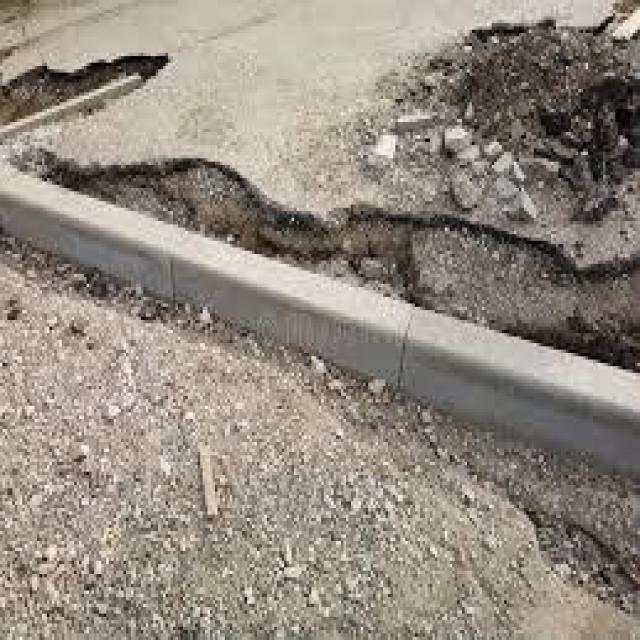bump: (181, 245, 591, 470)
hole: (439, 117, 640, 361), (4, 25, 174, 159)
